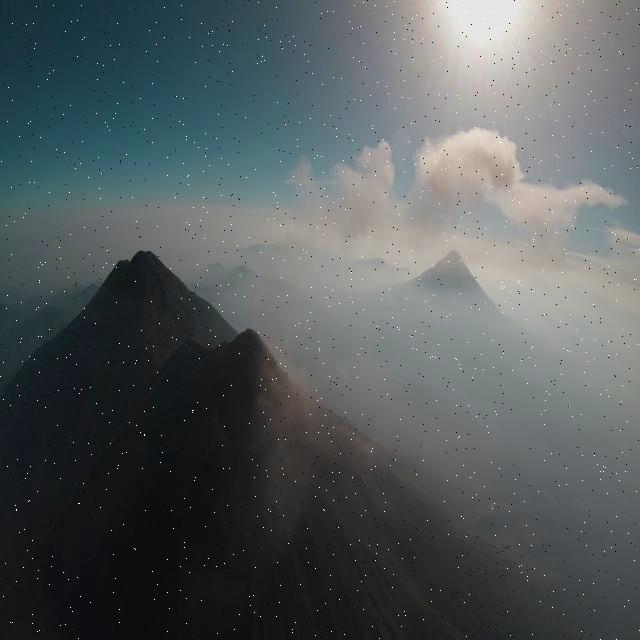Plume: (288, 134, 400, 246), (414, 126, 522, 210)
Summit: (207, 323, 274, 365)
